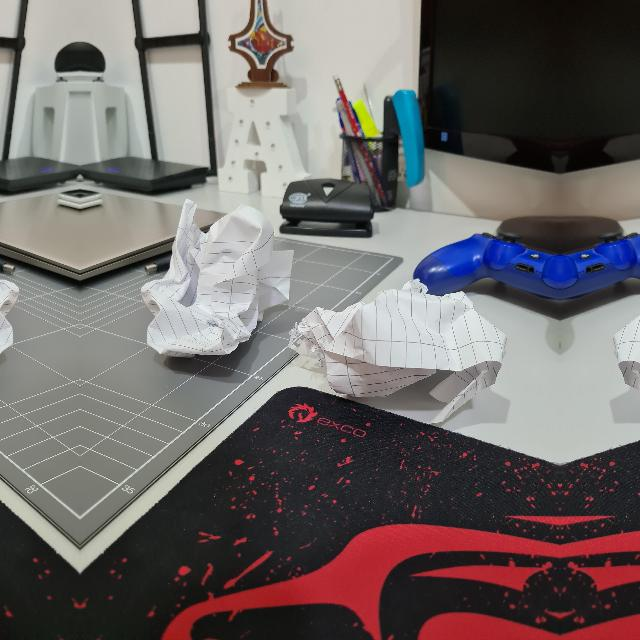paper: (288, 292, 500, 403), (143, 198, 280, 366), (0, 198, 17, 365), (620, 292, 640, 403)
